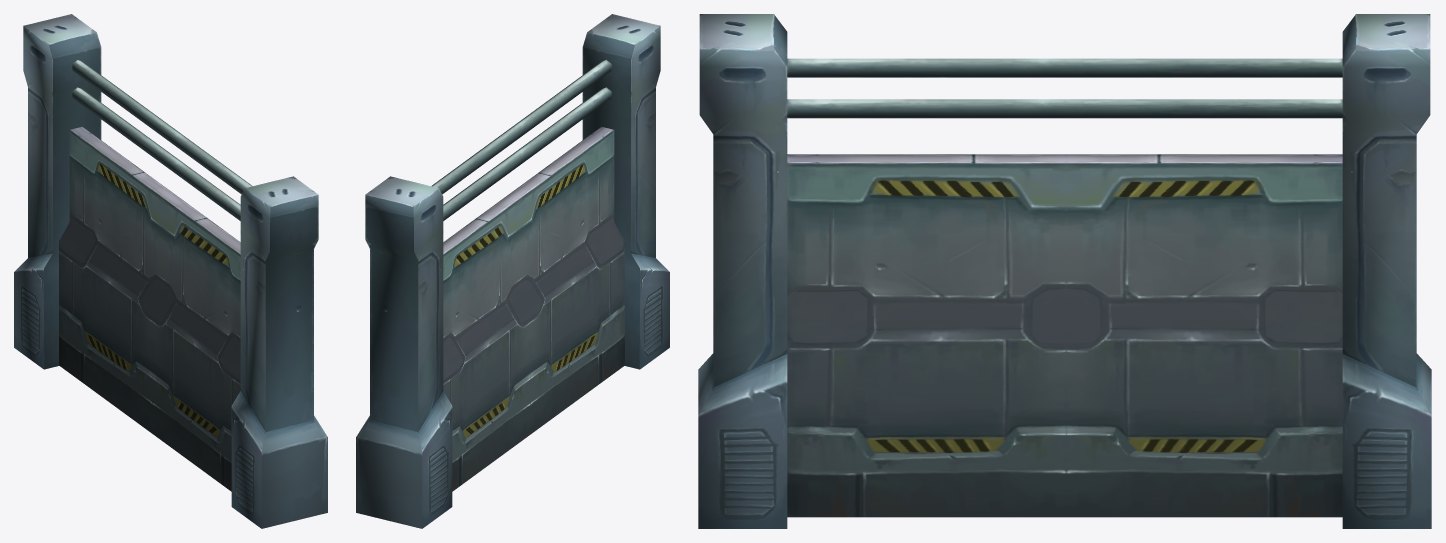
File: Map02_WWqlM_01.FBX
The picture shows the model from 3 angles, left to right: view 1: azimuth 30°, elevation 25°; view 2: azimuth 150°, elevation 25°; view 3: azimuth 270°, elevation 25°; orthographic projection. The views are drawn at different scales.
Parts seen in each view (by area): view 1: Map02_WWqlM_01; view 2: Map02_WWqlM_01; view 3: Map02_WWqlM_01.
Boxes of the visible parts, x1,y1,x2,y2 form: Map02_WWqlM_01: (14, 14, 327, 528); Map02_WWqlM_01: (356, 14, 669, 528); Map02_WWqlM_01: (698, 14, 1431, 528).
Size of the model in its own units: 238 by 1099 by 1542.
